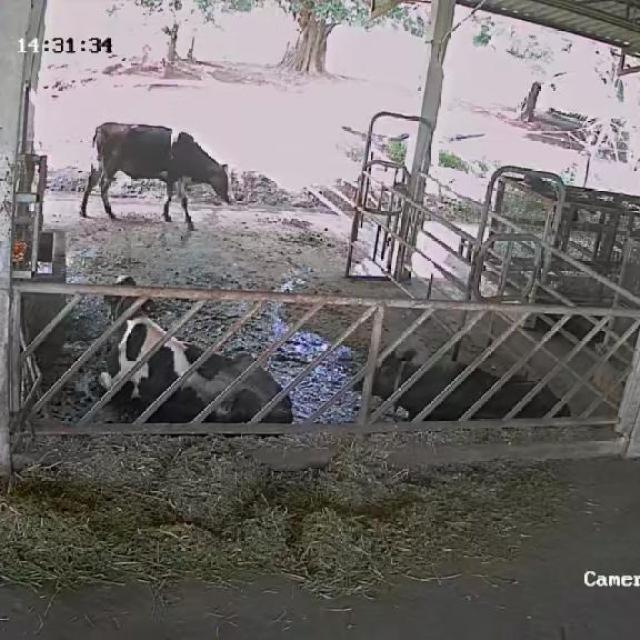lying down: (90, 273, 290, 432), (348, 341, 568, 426)
standing: (76, 119, 240, 237)
